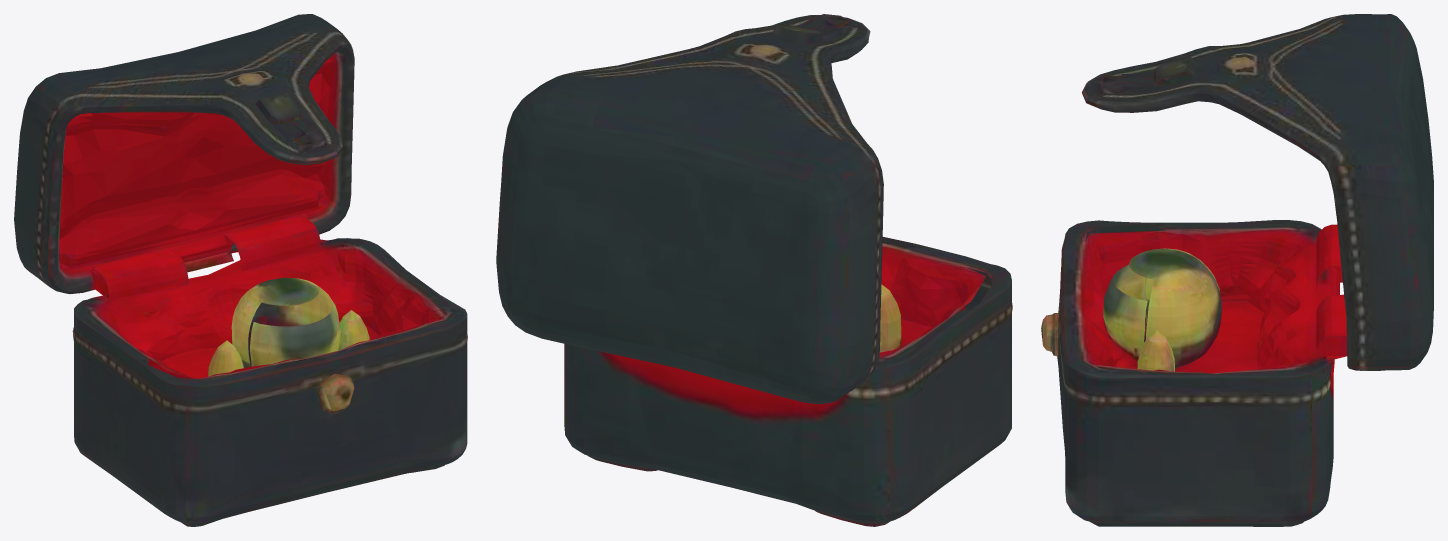
The model's file is prop_teeth.glb.
3 views of the same model, side by side, from view 1: azimuth 30°, elevation 25°; view 2: azimuth 150°, elevation 25°; view 3: azimuth 270°, elevation 25° (orthographic). The views are drawn at different scales.
Parts seen in each view (by area): view 1: mesh_node; view 2: mesh_node; view 3: mesh_node.
Part boxes in pixels (bbox=[...]): mesh_node: bbox=[14, 14, 467, 526]; mesh_node: bbox=[496, 14, 1012, 526]; mesh_node: bbox=[1041, 14, 1433, 526].
Bounding box in the file's own units: 1.69 × 1.91 × 1.7.
Materials: 1 (1 with a texture image).
